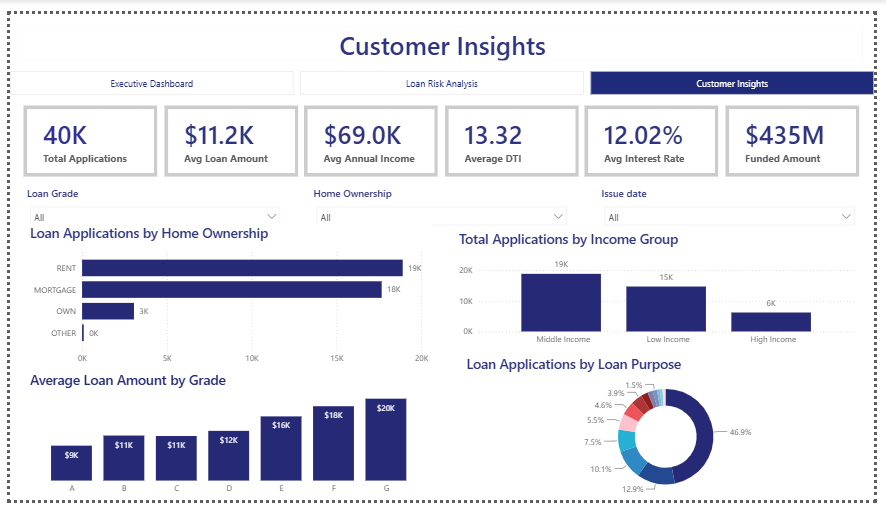

The page's visual inventory and layout, read from the dashboard file:
{"tool":"powerbi","page":{"name":"Customer Insights","canvas":[1280,720],"ordinal":2},"visuals":[{"type":"cardVisual","fields":{"Data":["Measures (2).Dynamic Title - Customer"]},"box":[0,0,1280,87],"z":0},{"type":"pageNavigator","box":[0,85,1280,35],"z":1000},{"type":"cardVisual","fields":{"Data":["loan.Total Loan Applications"]},"box":[20,135,198,105],"z":2000},{"type":"cardVisual","fields":{"Data":["Measures (2).Average Loan Amount"]},"box":[228,135,198,105],"z":3000},{"type":"cardVisual","fields":{"Data":["Measures (2).Average Annual Income"]},"box":[436,135,198,105],"z":4000},{"type":"cardVisual","fields":{"Data":["Measures (2).Average DTI"]},"box":[644,135,198,105],"z":5000},{"type":"cardVisual","fields":{"Data":["Measures (2).Average Interest Rate"]},"box":[852,135,198,105],"z":6000},{"type":"cardVisual","fields":{"Data":["Measures (2).Total Funded Amount"]},"box":[1060,135,198,105],"z":7000},{"type":"slicer","title":"Loan Grade","fields":{"Values":["loan.grade"]},"box":[20,255,390,60],"z":8000},{"type":"slicer","title":"Home Ownership","fields":{"Values":["loan.home_ownership"]},"box":[445,255,390,60],"z":9000},{"type":"slicer","title":"Issue date","fields":{"Values":["loan.issue_d"]},"box":[870,255,390,60],"z":10000},{"type":"clusteredBarChart","title":"Loan Applications by Home Ownership","fields":{"Category":["loan.home_ownership"],"Y":["Measures (2).Total Applications"]},"box":[24,312,600,216],"z":11000},{"type":"clusteredColumnChart","fields":{"Category":["loan.Income Group"],"Y":["Measures (2).Total Applications"]},"box":[660,320,600,180],"z":12000},{"type":"donutChart","title":"Loan Applications by Loan Purpose","fields":{"Category":["loan.purpose"],"Y":["Measures (2).Total Applications"]},"box":[672,504,600,216],"z":13000},{"type":"clusteredColumnChart","title":"Average Loan Amount by Grade","fields":{"Category":["loan.grade"],"Y":["Measures (2).Average Loan Amount"]},"box":[24,528,600,192],"z":14000}]}

Visuals, with their boxes in screenshot pixels (x1, y1, x2, y2), scaled from the page's 1280x720 canvas onto the 886x511 screenshot:
cardVisual - Measures (2).Dynamic Title - Customer: (x1=0, y1=0, x2=885, y2=62)
pageNavigator: (x1=0, y1=60, x2=885, y2=85)
cardVisual - loan.Total Loan Applications: (x1=14, y1=96, x2=151, y2=170)
cardVisual - Measures (2).Average Loan Amount: (x1=158, y1=96, x2=295, y2=170)
cardVisual - Measures (2).Average Annual Income: (x1=302, y1=96, x2=439, y2=170)
cardVisual - Measures (2).Average DTI: (x1=446, y1=96, x2=583, y2=170)
cardVisual - Measures (2).Average Interest Rate: (x1=590, y1=96, x2=727, y2=170)
cardVisual - Measures (2).Total Funded Amount: (x1=734, y1=96, x2=871, y2=170)
"Loan Grade" slicer: (x1=14, y1=181, x2=284, y2=224)
"Home Ownership" slicer: (x1=308, y1=181, x2=578, y2=224)
"Issue date" slicer: (x1=602, y1=181, x2=872, y2=224)
"Loan Applications by Home Ownership" clusteredBarChart: (x1=17, y1=221, x2=432, y2=375)
clusteredColumnChart - loan.Income Group x Measures (2).Total Applications: (x1=457, y1=227, x2=872, y2=355)
"Loan Applications by Loan Purpose" donutChart: (x1=465, y1=358, x2=880, y2=510)
"Average Loan Amount by Grade" clusteredColumnChart: (x1=17, y1=375, x2=432, y2=510)
